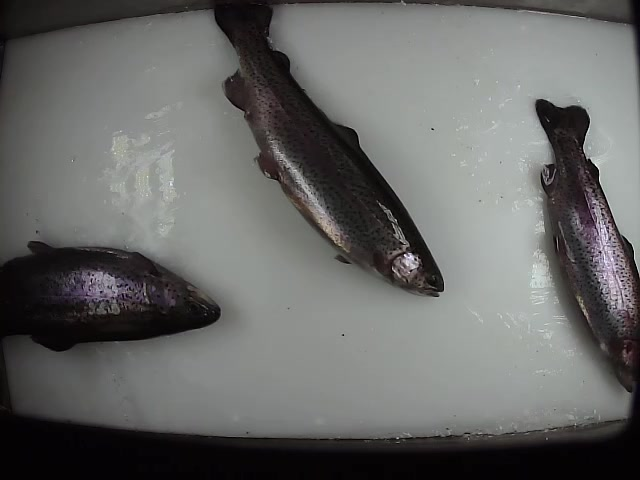fish: (210, 1, 446, 300), (533, 95, 640, 397), (1, 238, 222, 354)
